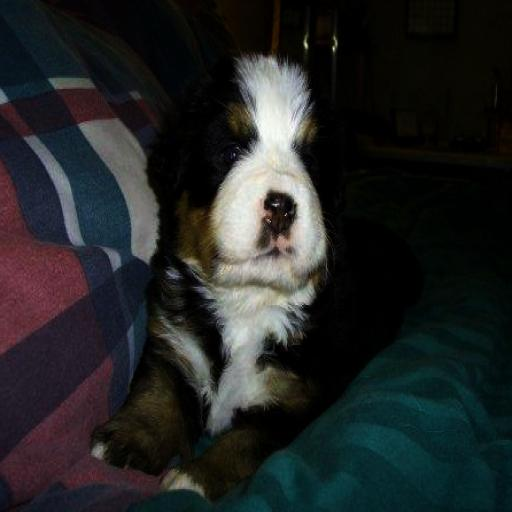dog_face: (179, 54, 336, 260)
